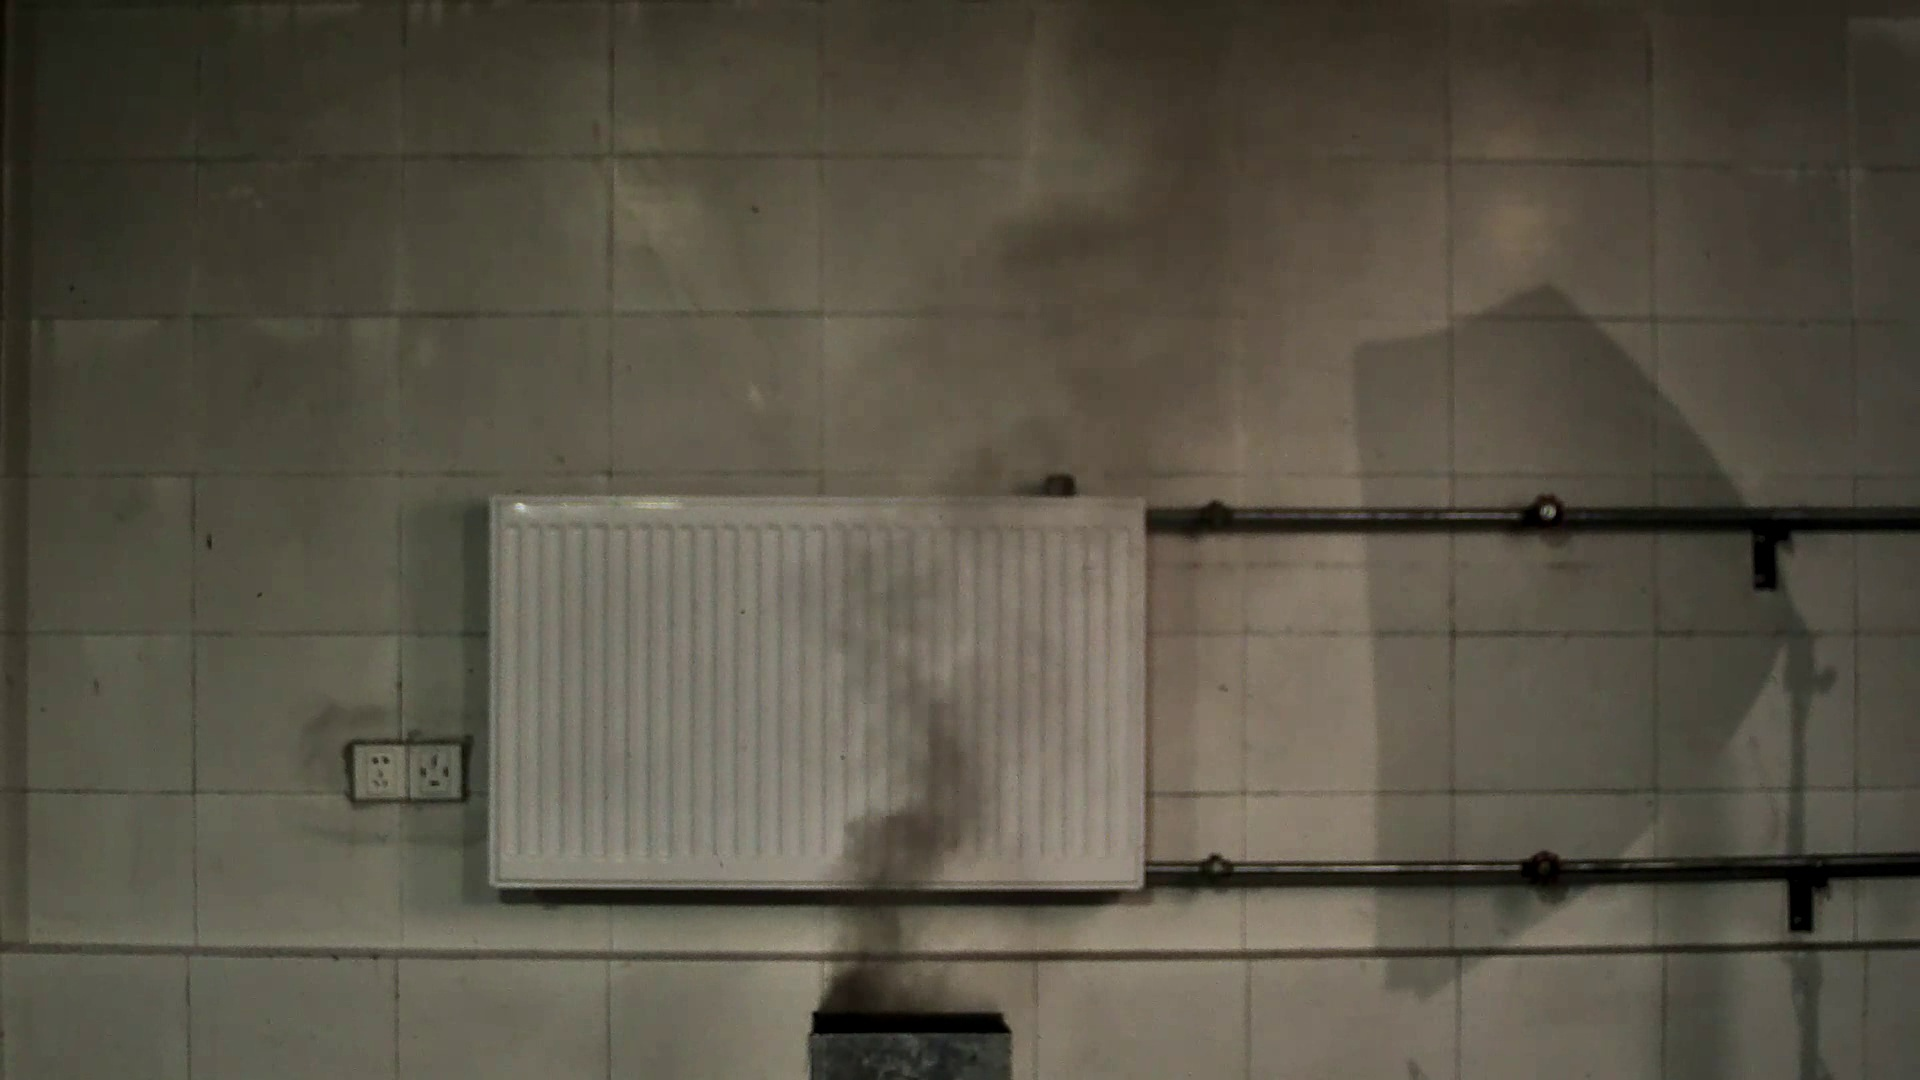smoke: (790, 145, 1275, 996)
